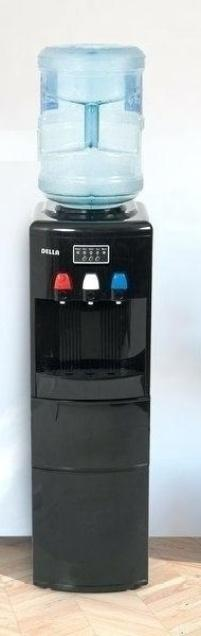Dispenser: (28, 44, 152, 592)
